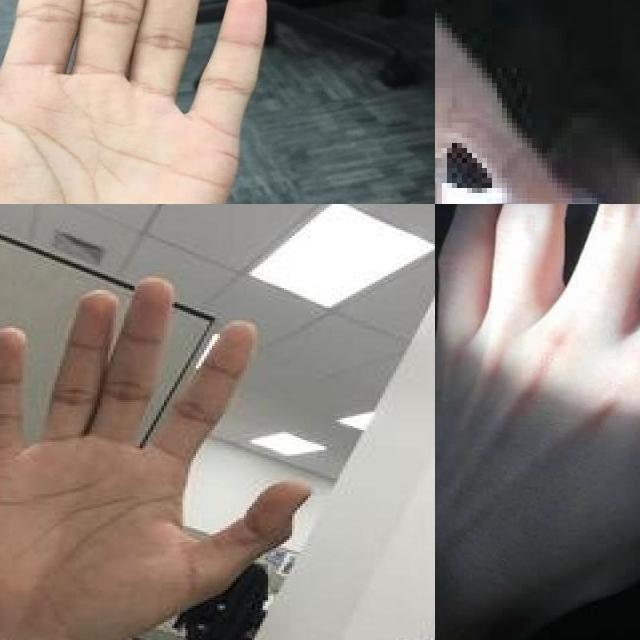no-gloves: (0, 280, 313, 640), (435, 204, 640, 634), (0, 0, 270, 204), (435, 0, 637, 204)
